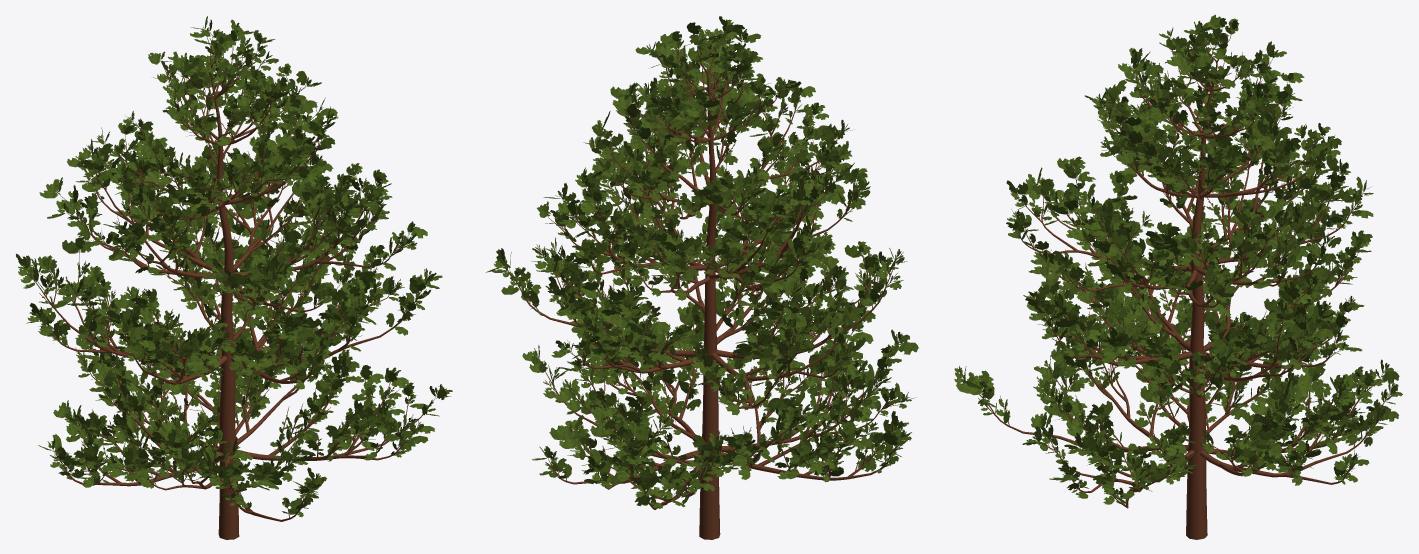
The model's file is Lortetræ.fbx.
The picture shows the model from 3 angles, left to right: view 1: azimuth 30°, elevation 25°; view 2: azimuth 150°, elevation 25°; view 3: azimuth 270°, elevation 25°; orthographic projection. The views are drawn at different scales.
Visible parts, largest first — view 1: leaves, tree; view 2: leaves, tree; view 3: leaves, tree.
Part boxes in pixels (box(x1,y1,x2,y2)): leaves: box(16, 16, 452, 517); tree: box(22, 28, 439, 539); leaves: box(486, 16, 918, 508); tree: box(501, 26, 906, 539); leaves: box(954, 14, 1402, 504); tree: box(957, 27, 1392, 539).
Size of the model in its own units: 403 by 522 by 416.
Materials: 2 (1 with a texture image).
